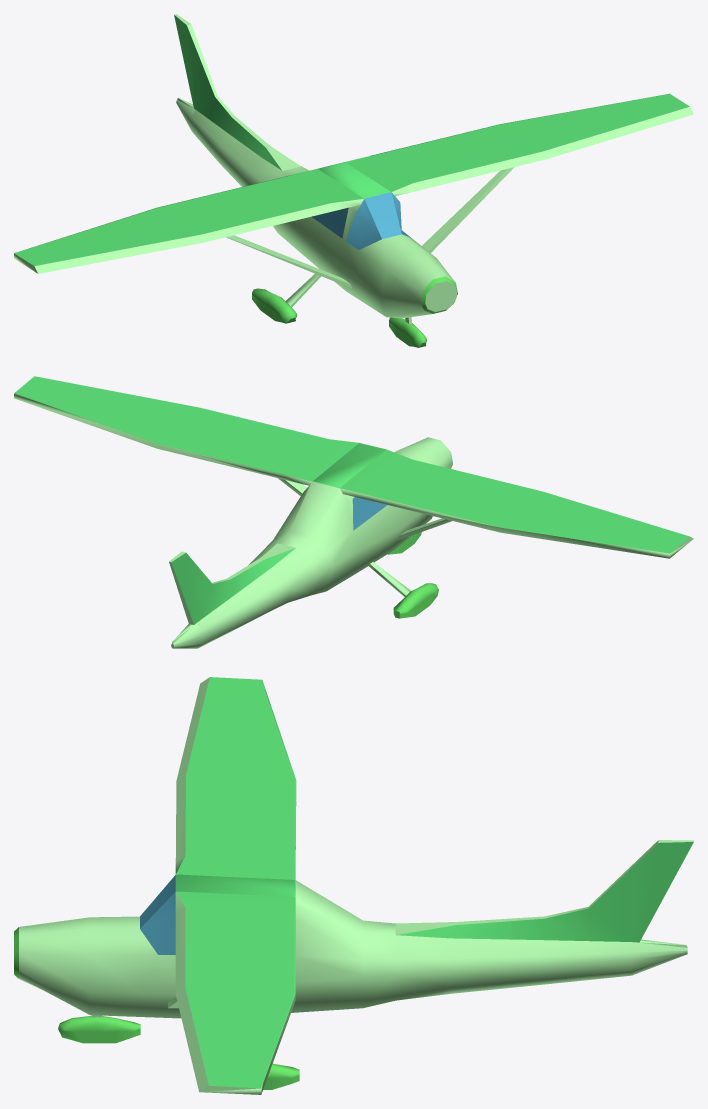
The picture shows the model from 3 angles, top to bottom: view 1: azimuth 30°, elevation 25°; view 2: azimuth 150°, elevation 25°; view 3: azimuth 270°, elevation 25°; orthographic projection. The views are drawn at different scales.
Visible parts, largest first — view 1: Plane.001; view 2: Plane.001; view 3: Plane.001.
Part boxes in pixels (x1=…): Plane.001: x1=14, y1=14, x2=693, y2=347; Plane.001: x1=14, y1=376, x2=693, y2=648; Plane.001: x1=14, y1=677, x2=693, y2=1094.
Size of the model in its own units: 444 by 101 by 312.
